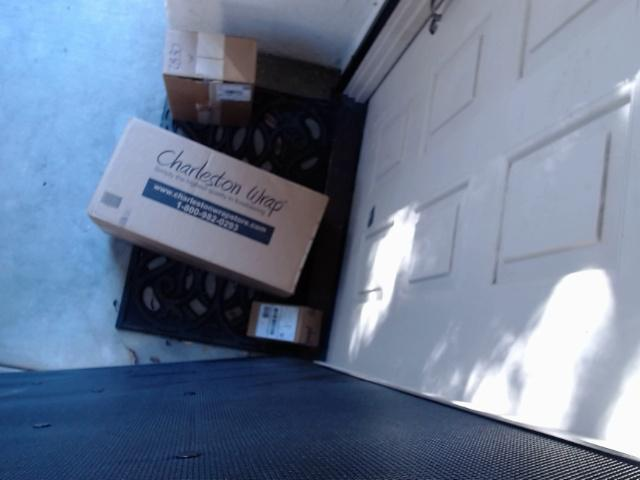box: (86, 117, 328, 297), (162, 29, 258, 126), (246, 301, 324, 346)
